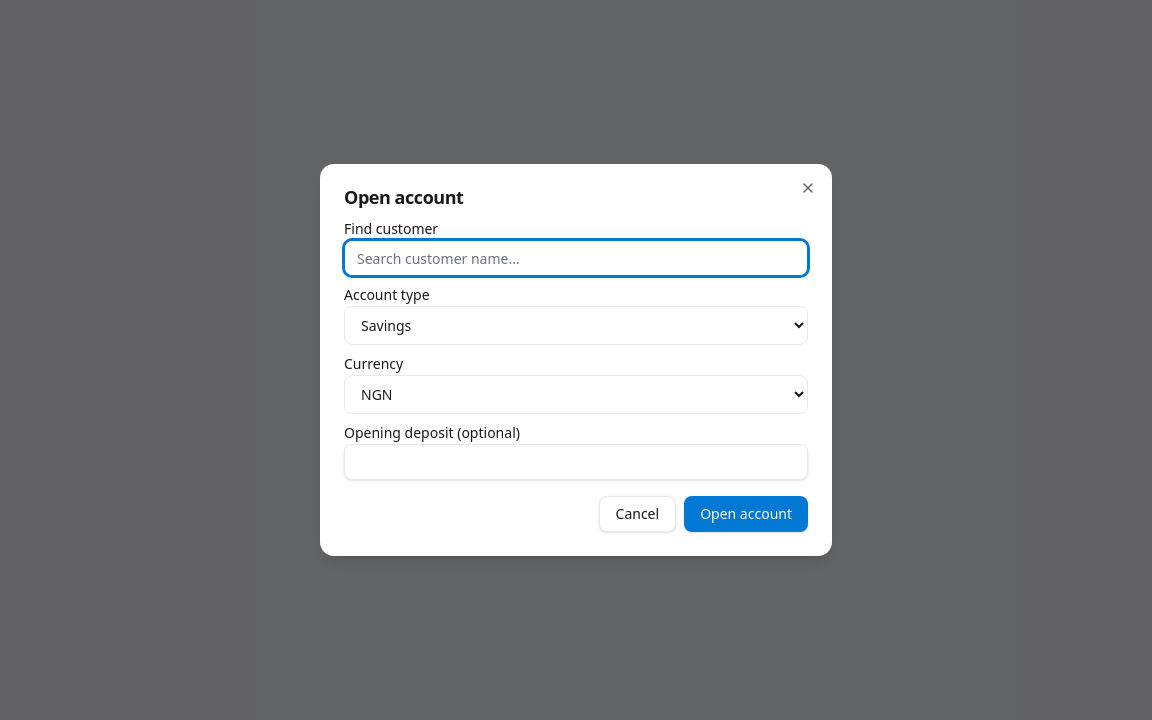
Test case: OpenAccountModal › blocks submit until a customer is picked
The width and height of the screenshot is (1152, 720).
Click the button "Open account": (746, 514) left=684, top=496, right=808, bottom=532
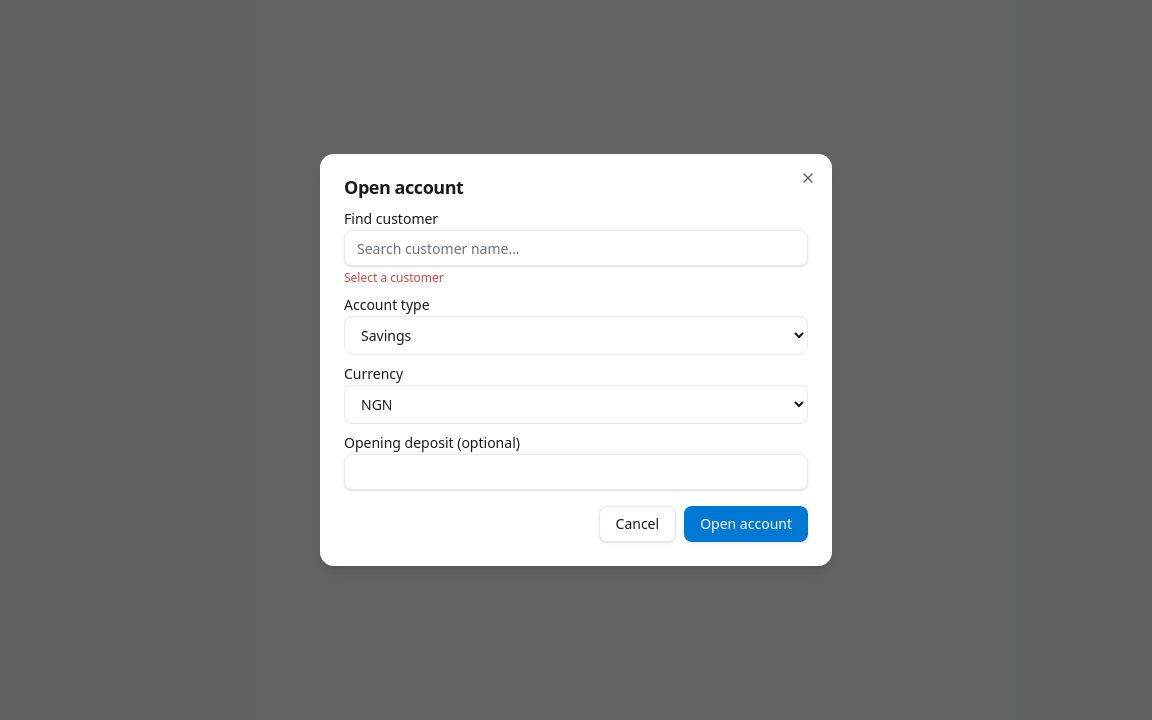
Result: the text "Select a customer" is shown at left=344, top=269, right=444, bottom=286
